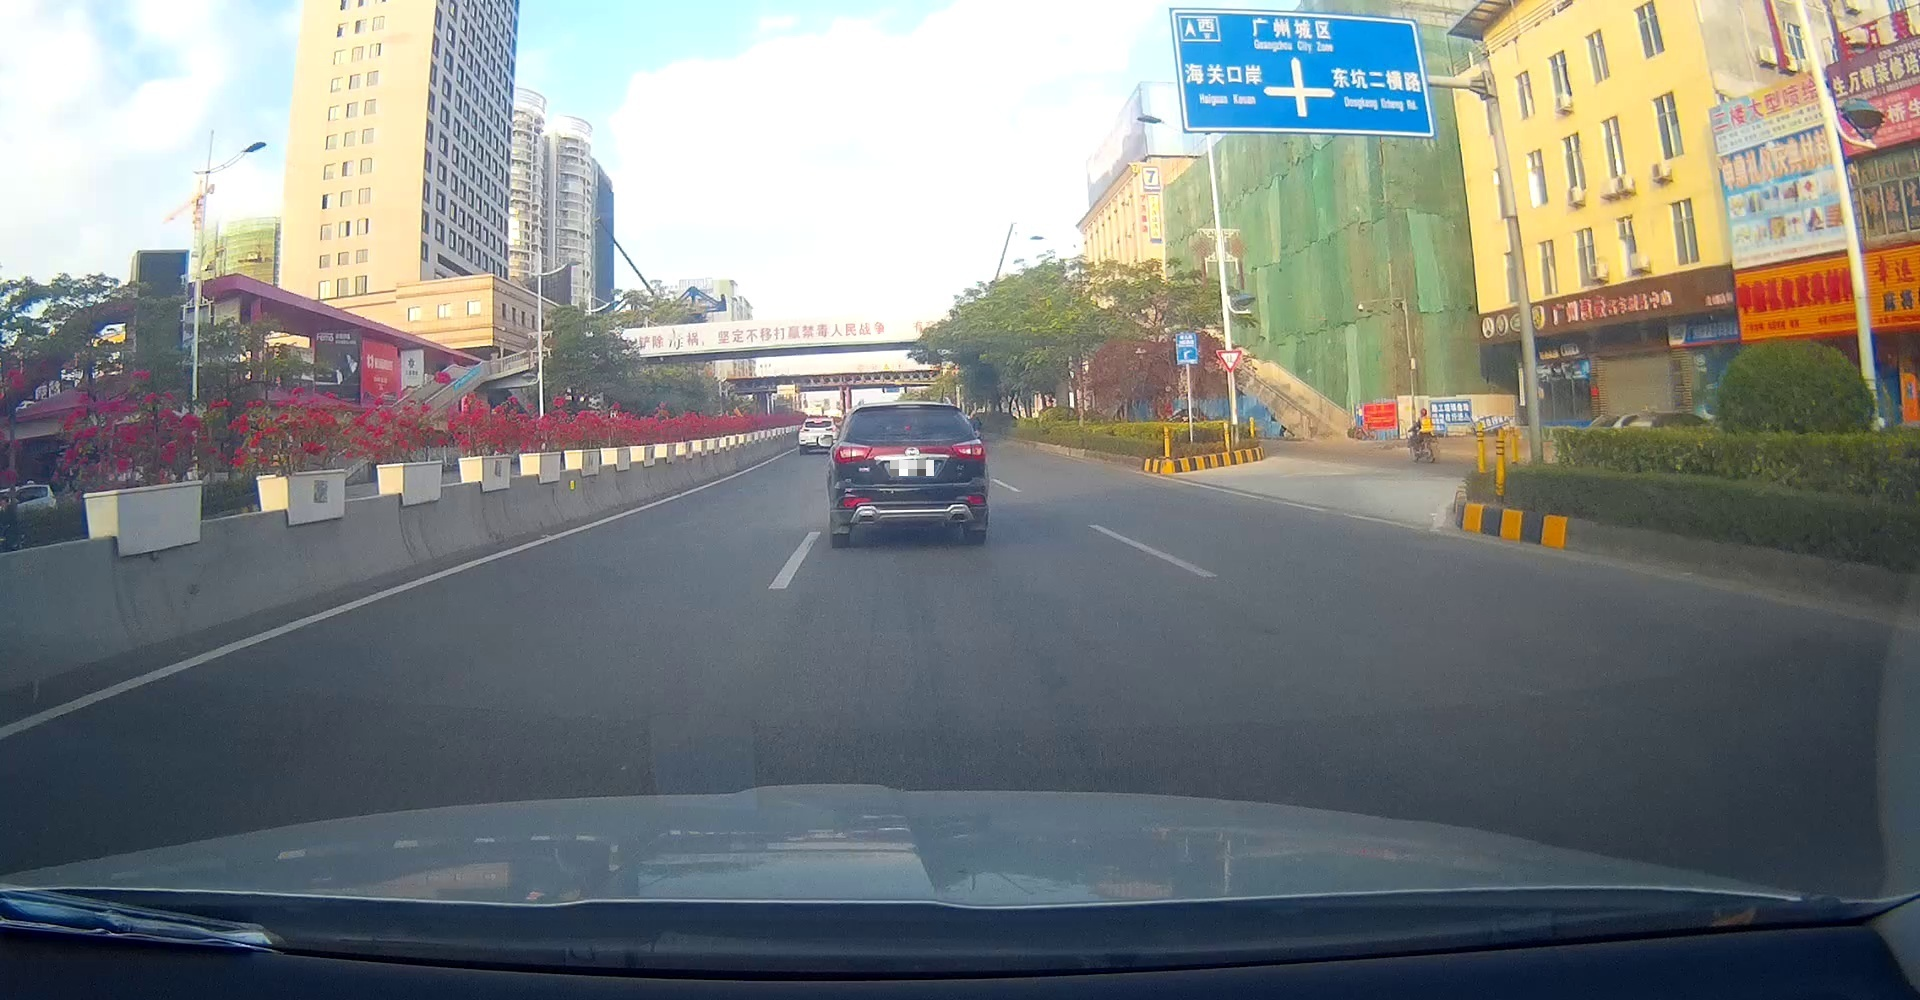L_light: (833, 443, 872, 463)
R_light: (952, 438, 985, 459)
T_light: (894, 402, 921, 410)
day-no: (832, 400, 985, 547)
plate_1: (890, 459, 935, 476)
